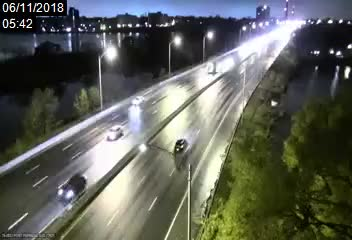personal_car: (58, 174, 86, 200), (172, 139, 189, 156), (106, 125, 124, 141)
